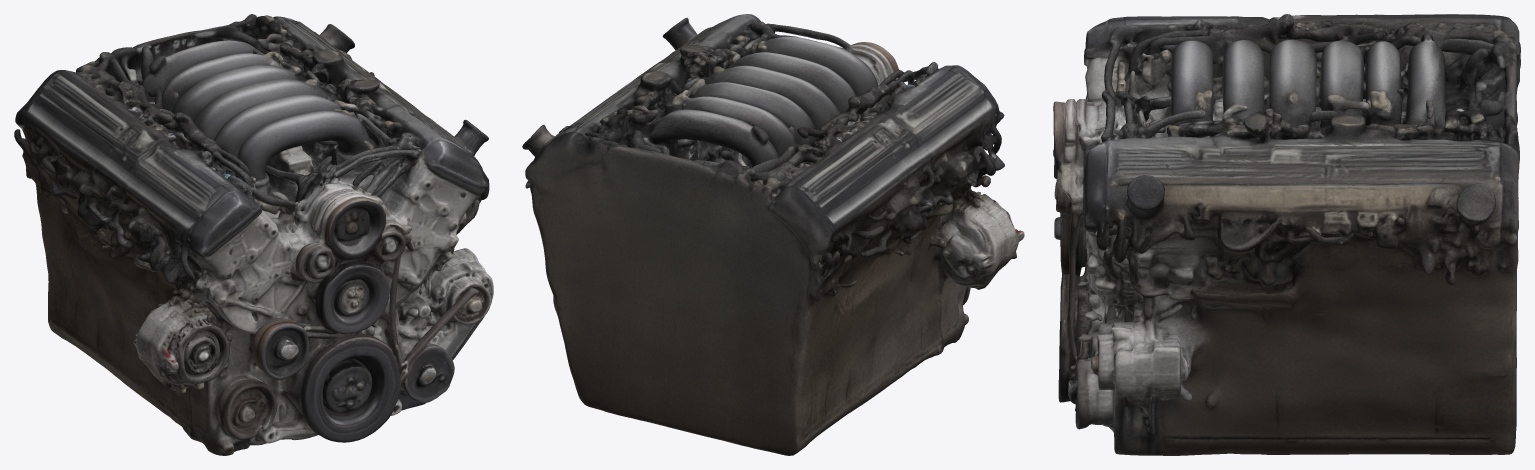
The model's file is motor.glb.
3 views of the same model, side by side, from view 1: azimuth 30°, elevation 25°; view 2: azimuth 150°, elevation 25°; view 3: azimuth 270°, elevation 25° (orthographic). The views are drawn at different scales.
Parts seen in each view (by area): view 1: world; view 2: world; view 3: world.
Boxes of the visible parts, x1,y1,x2,y2 form: world: [14, 14, 493, 455]; world: [522, 14, 1024, 455]; world: [1053, 14, 1520, 455].
Size of the model in its own units: 1 by 0.8086 by 0.9909.
Materials: 1 (1 with a texture image).
